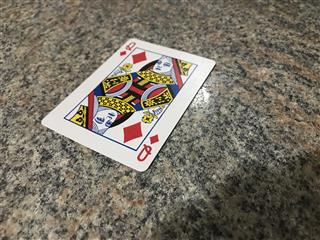QueenOfDiamonds: (39, 37, 217, 172)
